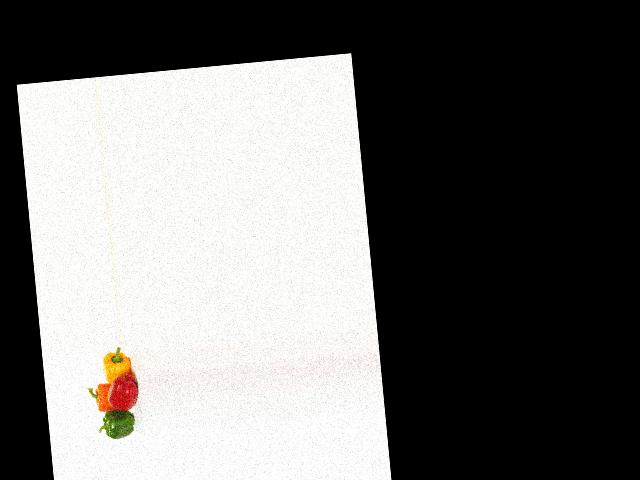bell_pepper: (99, 405, 140, 440)
